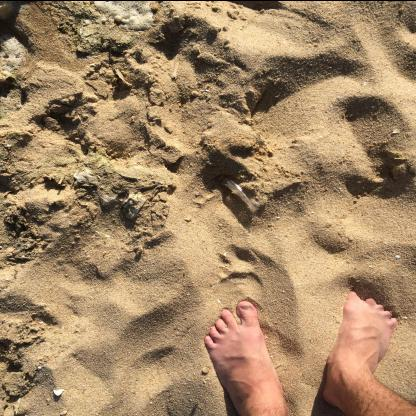plastik: (222, 177, 260, 209)
